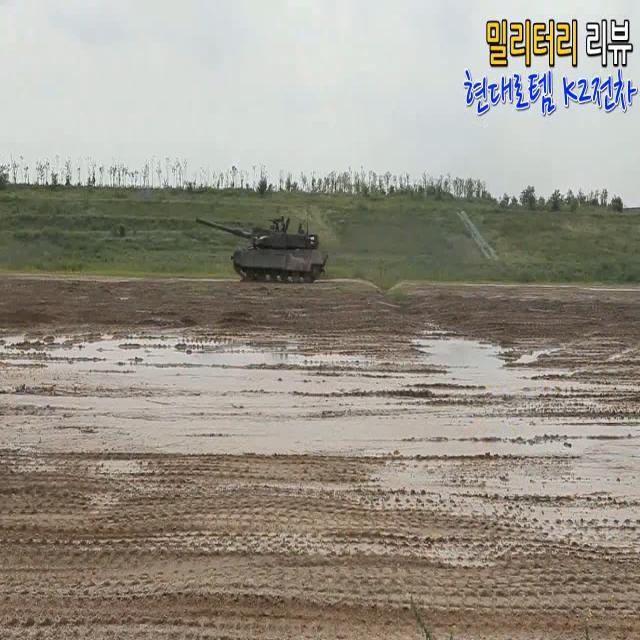korea tank: (193, 214, 329, 287)
